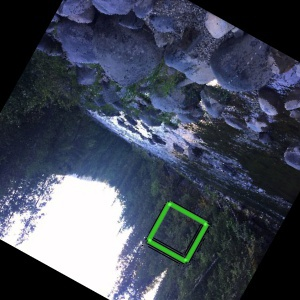square: (144, 198, 212, 267)
